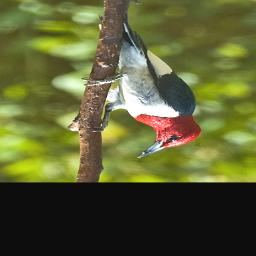Woodpecker: (83, 17, 203, 157)
